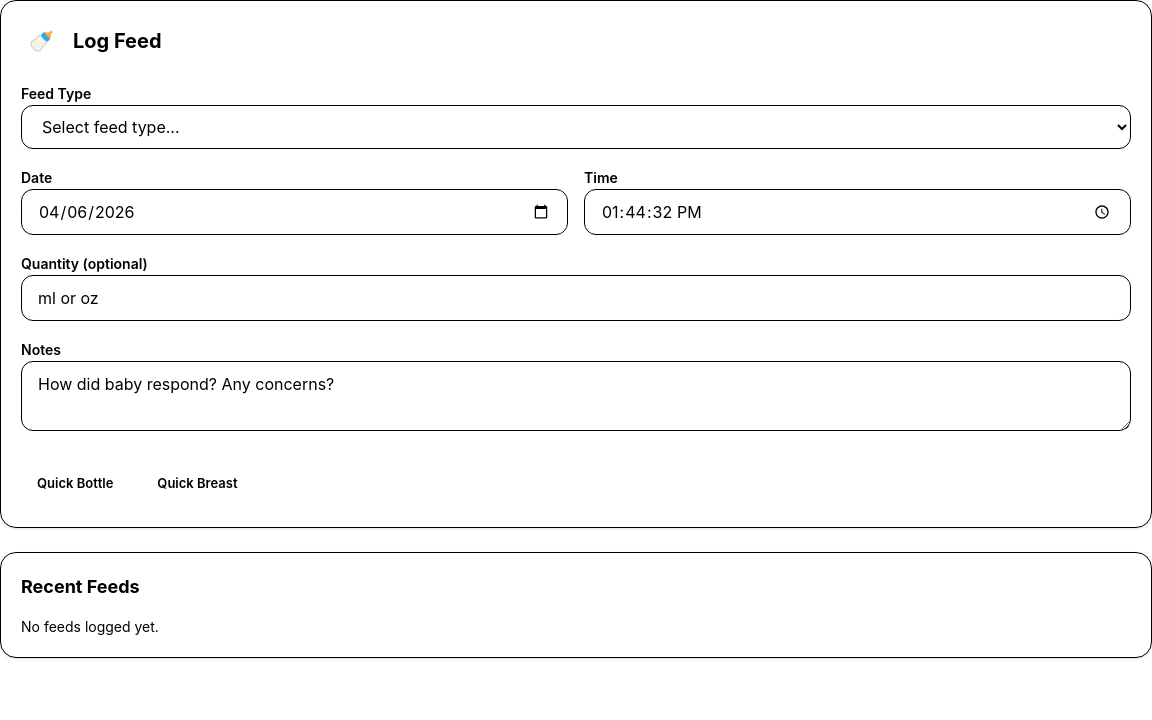
Test case: Feeds › quick bottle sets type
Step 1. Click the button "Quick Bottle" → [75, 484], box [21, 466, 129, 502]
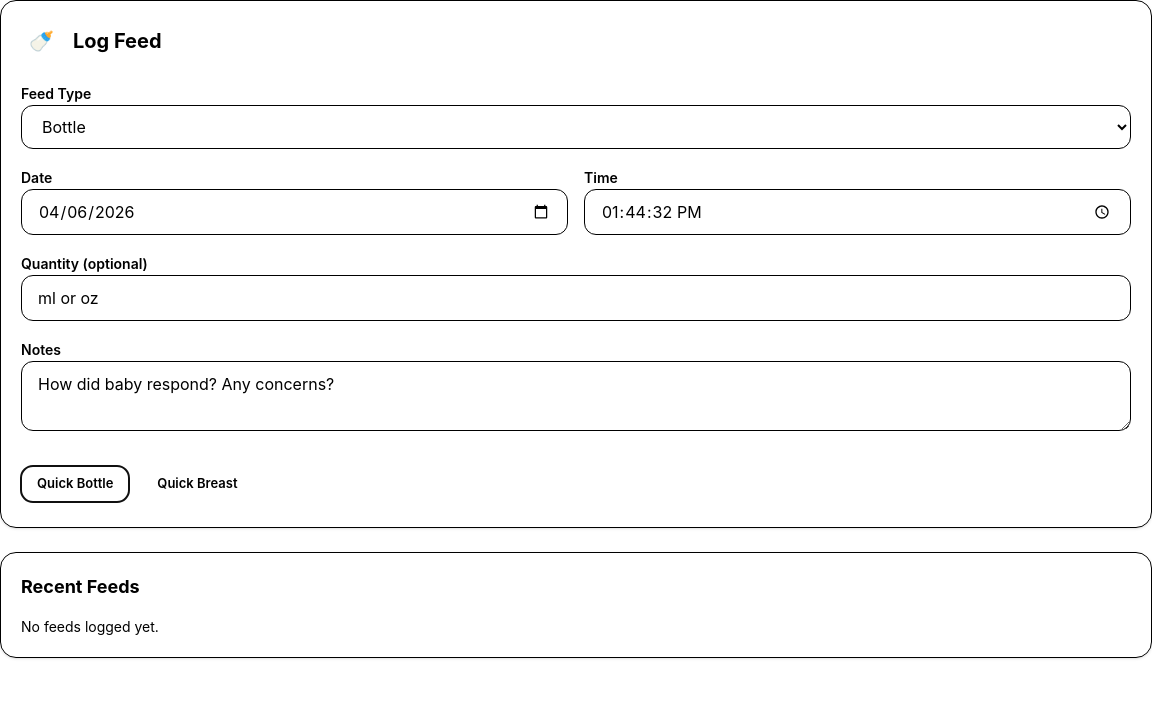
Expected: the dropdown shows "Bottle", [21, 105, 1131, 149]
